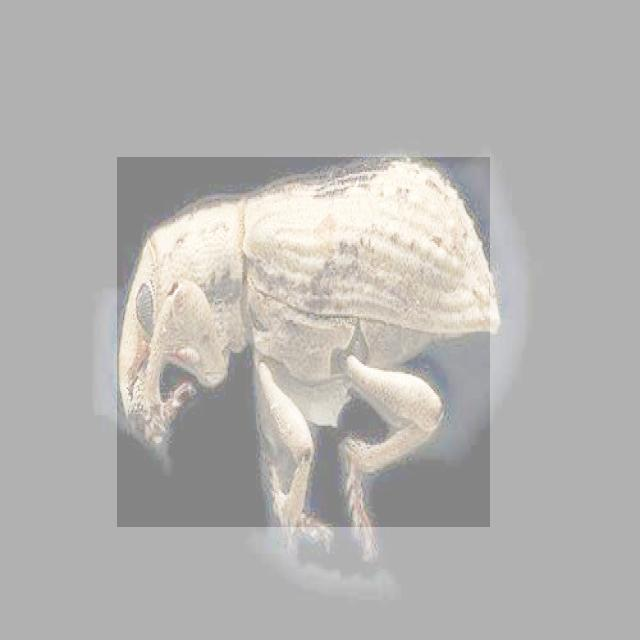rice-bug: (117, 158, 490, 528)
